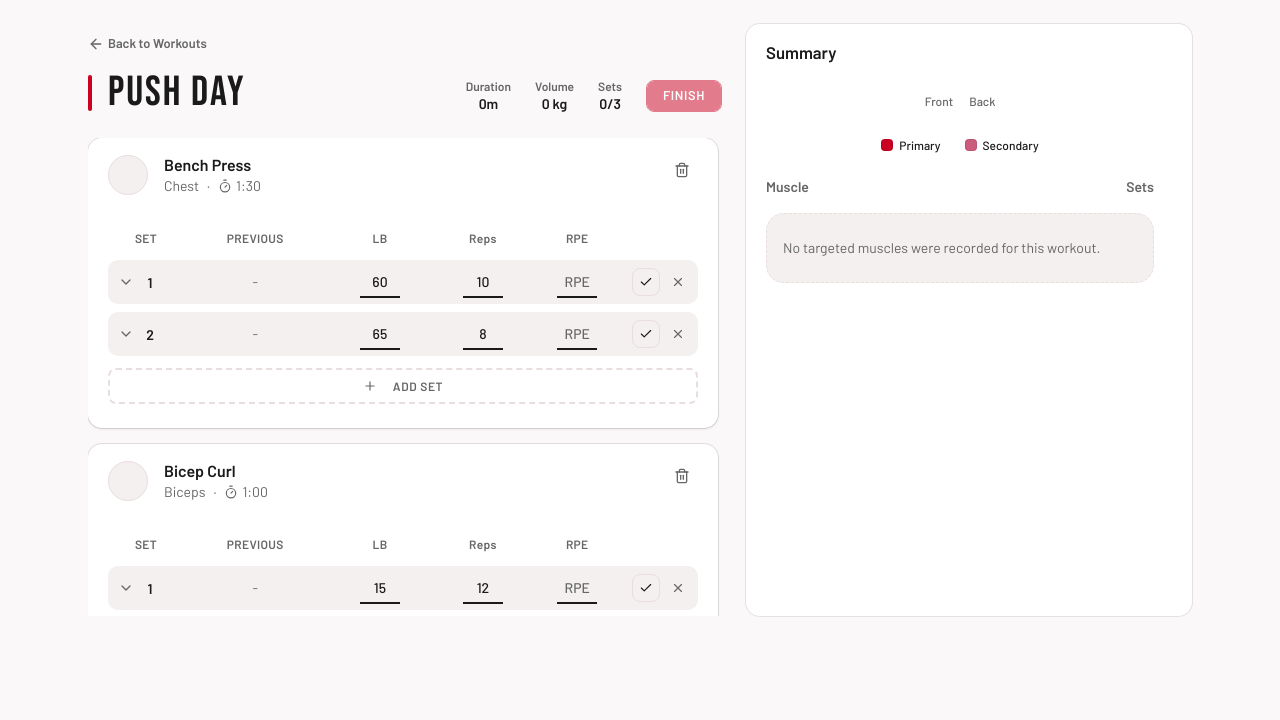
it: ActiveSessionPage summary section › renders summary card with muscle diagram and set breakdown
Expected: the text "Summary" is shown, [766, 42, 836, 62]
Click the button with class "hover" at (646, 282), box [632, 268, 660, 296]
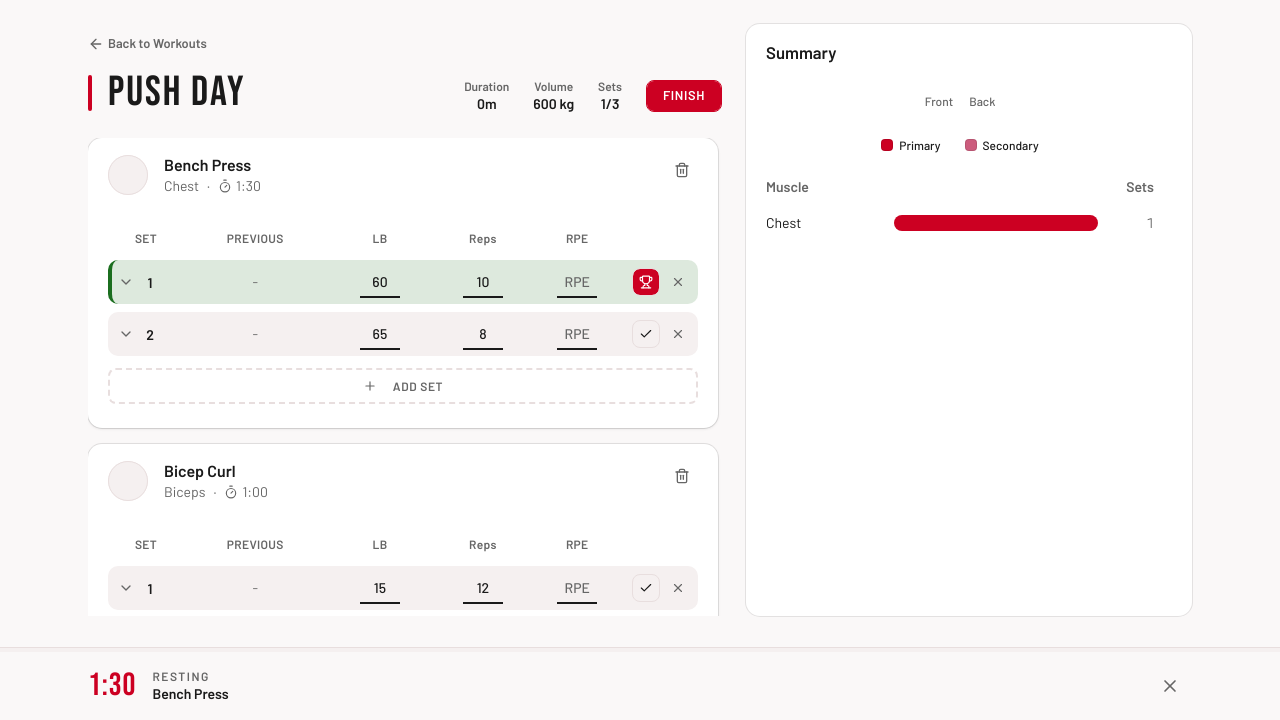
Click the button with class "hover" at (646, 588), box [632, 574, 660, 602]
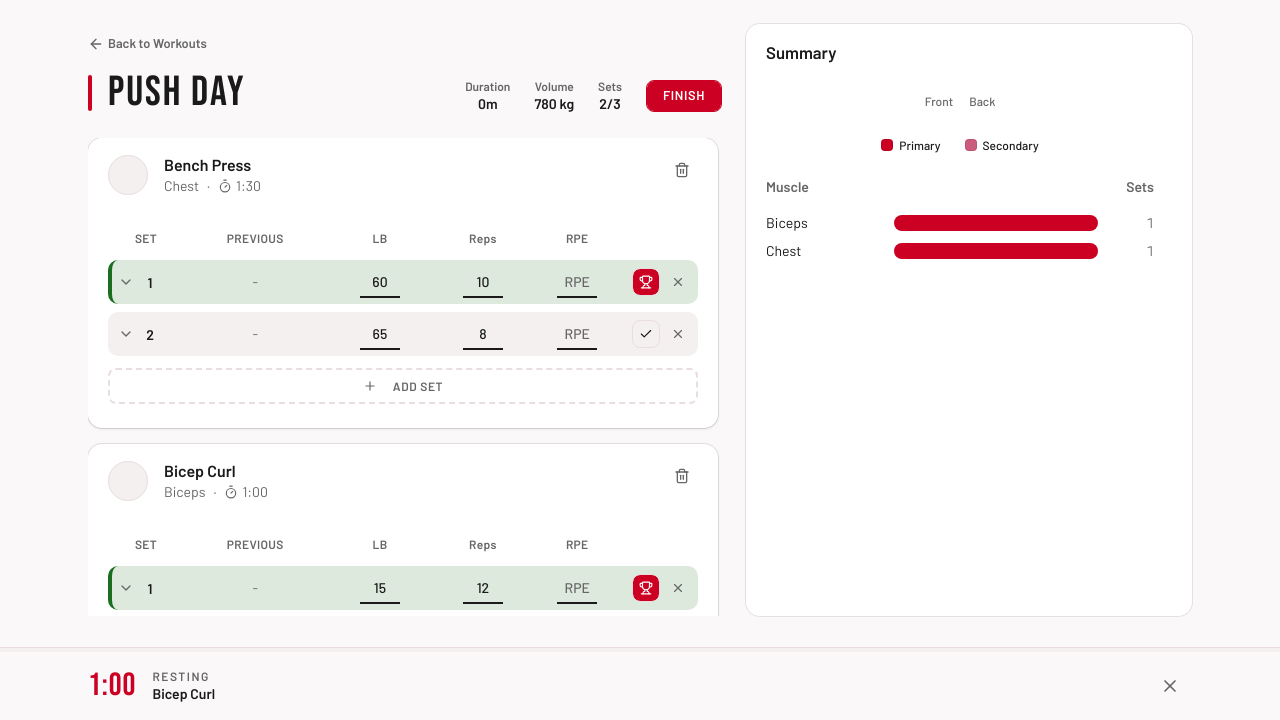
Expected: the text "Chest" below "Muscle" is shown, [766, 242, 801, 259]
Expected: the 1st text "1" is shown, [1147, 214, 1154, 231]
Expected: the text "Biceps" below "Muscle" is shown, [766, 214, 808, 231]
